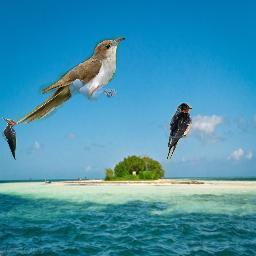Cuckoo: (14, 36, 125, 124)
Swallow: (165, 102, 192, 161)
Woodpecker: (1, 117, 17, 160)
